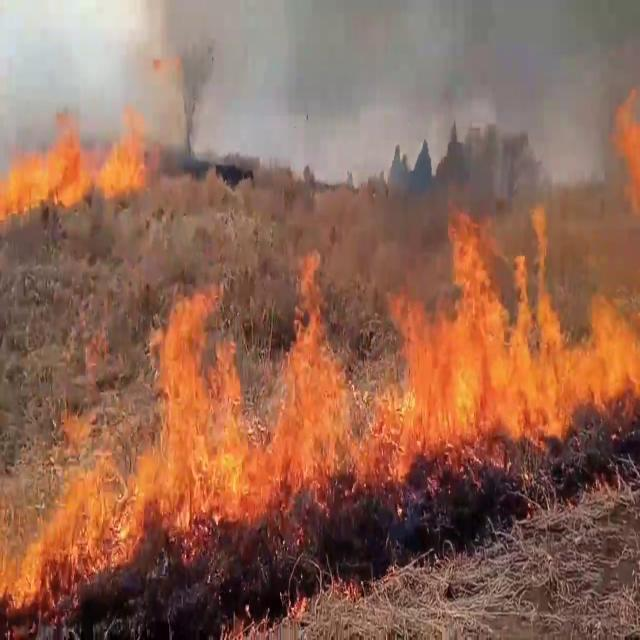Fire: (113, 204, 638, 537), (0, 94, 154, 214)
Smoke: (250, 0, 639, 268)
